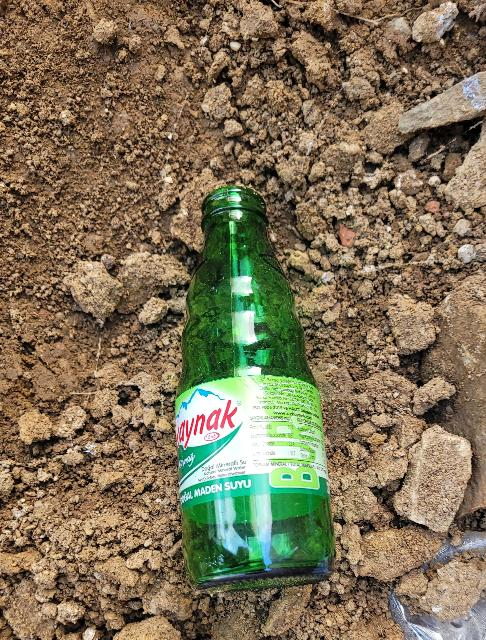Cam: (168, 191, 336, 586)
